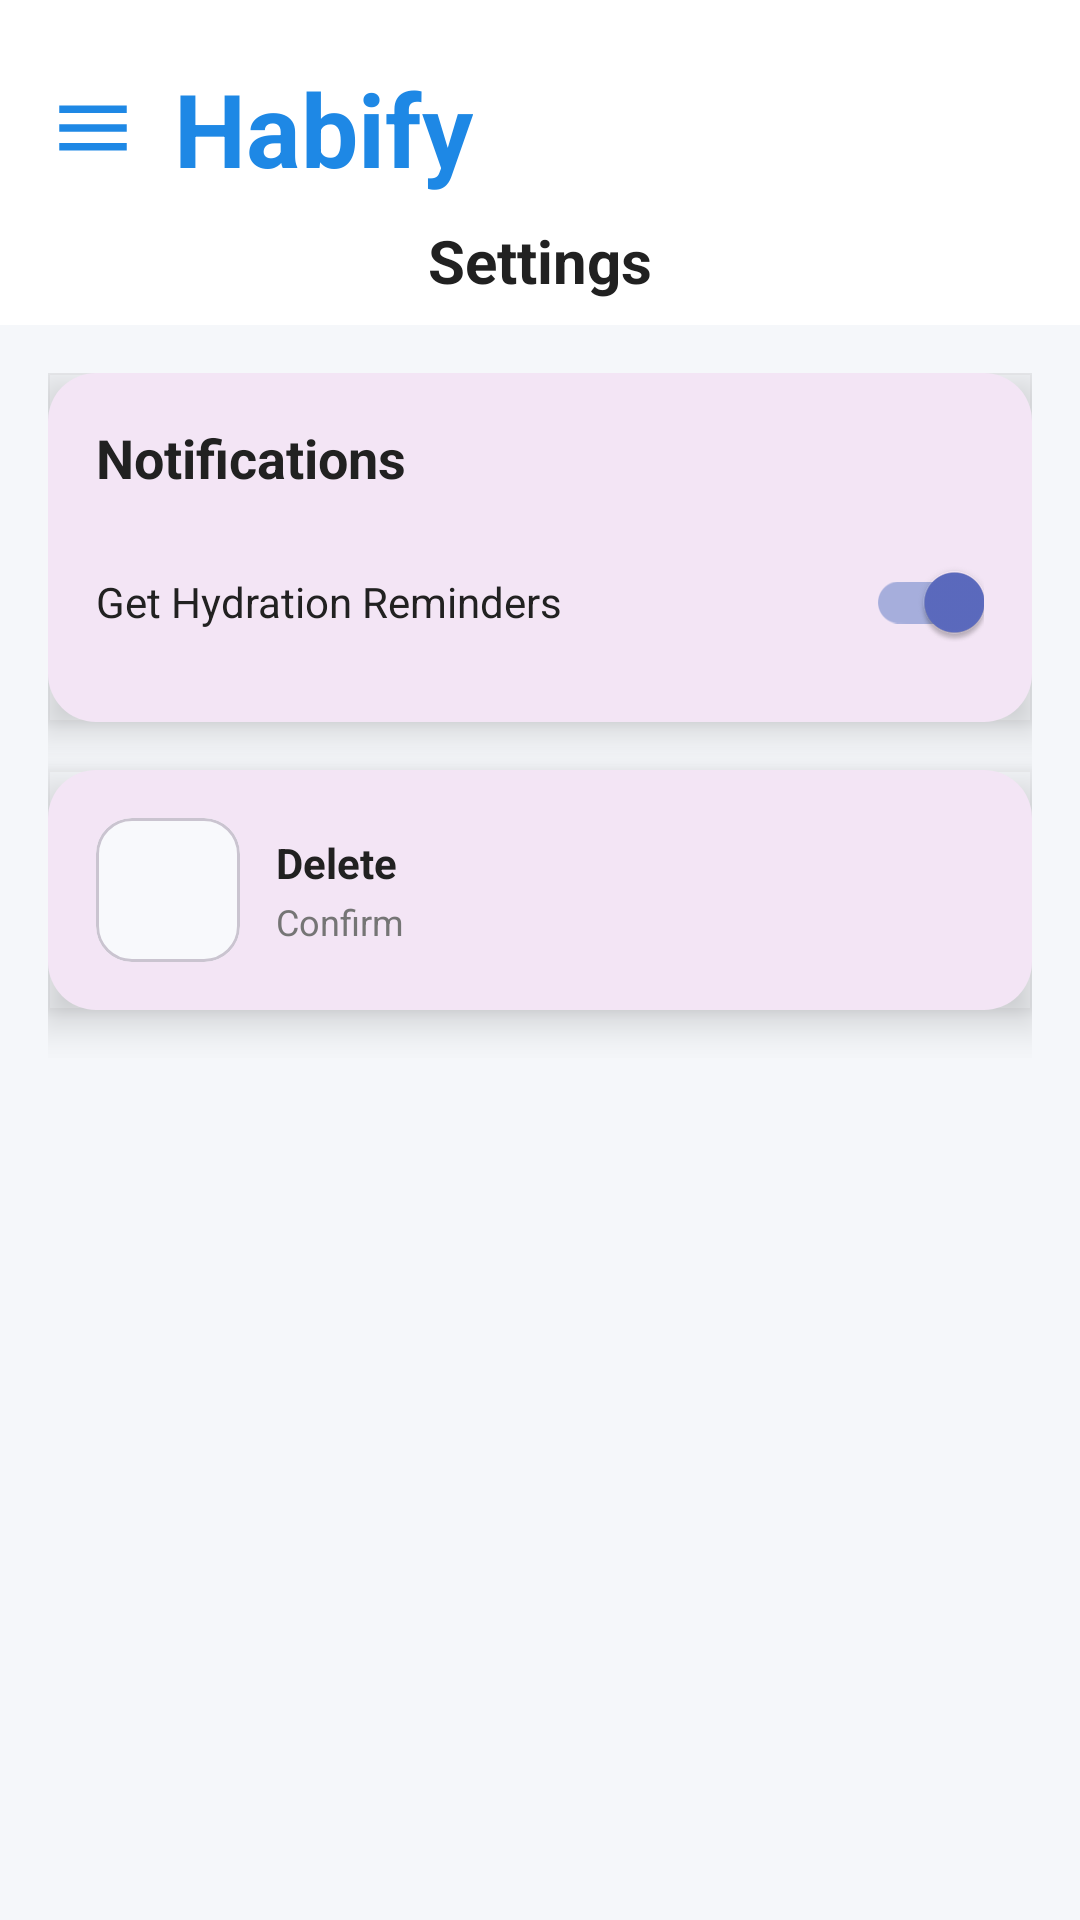

Named icons in this screenshot (1080w x 1920h) and their bounding boxes, (x1, y1, x2, y2):
Menu: (59, 105, 127, 151)
